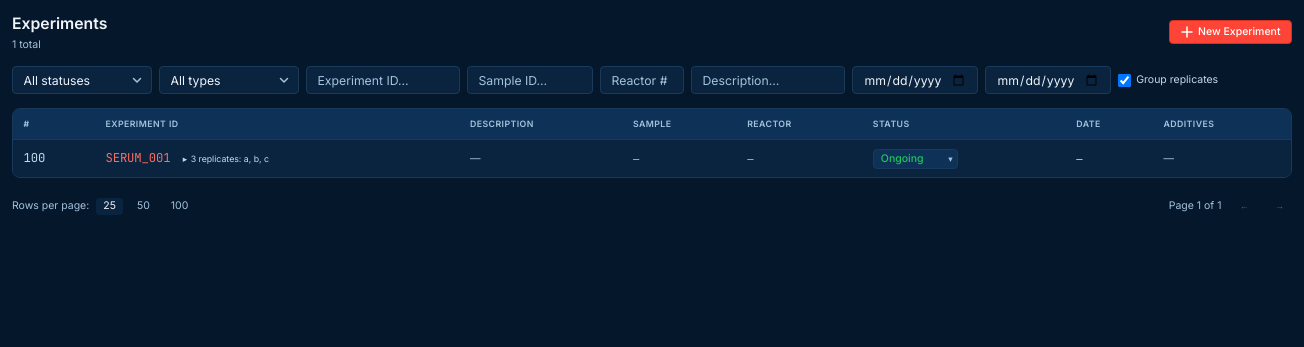
Scenario: ExperimentListPage — replicate grouping › expands a group to show child rows
This screenshot has width=1304, height=347.
Expected: the text "SERUM_001" is shown, [105,150,170,166]
Step 1. Click the button with aria-label "expand replicates" → point(226, 160), box [178,152,274,167]
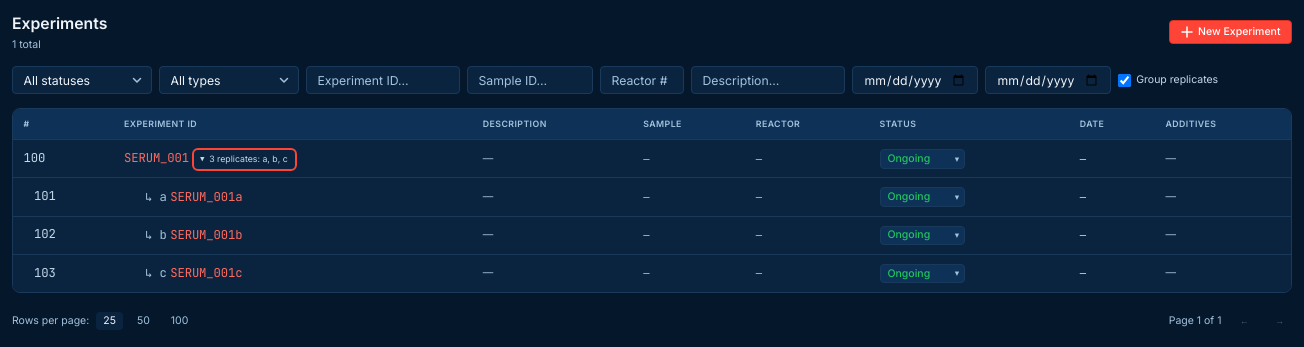
Expected: the text "SERUM_001a" is shown, [170,189,242,205]
Expected: the text "SERUM_001c" is shown, [170,265,242,281]
